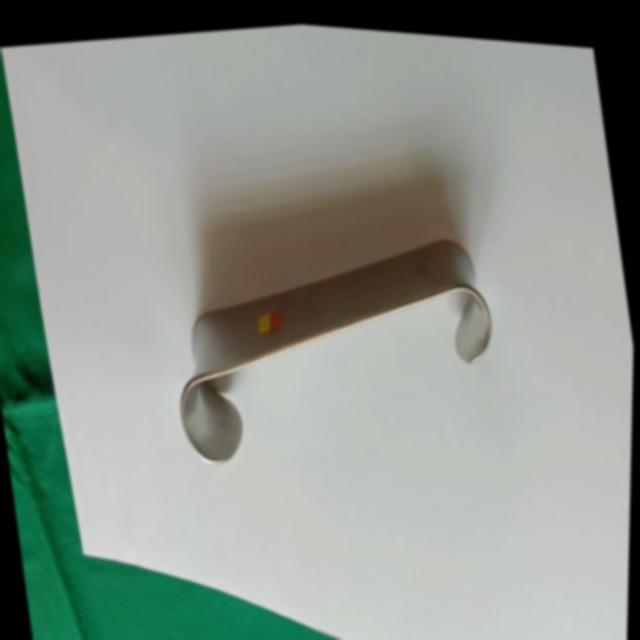CheekRetractor: (156, 205, 513, 490)
